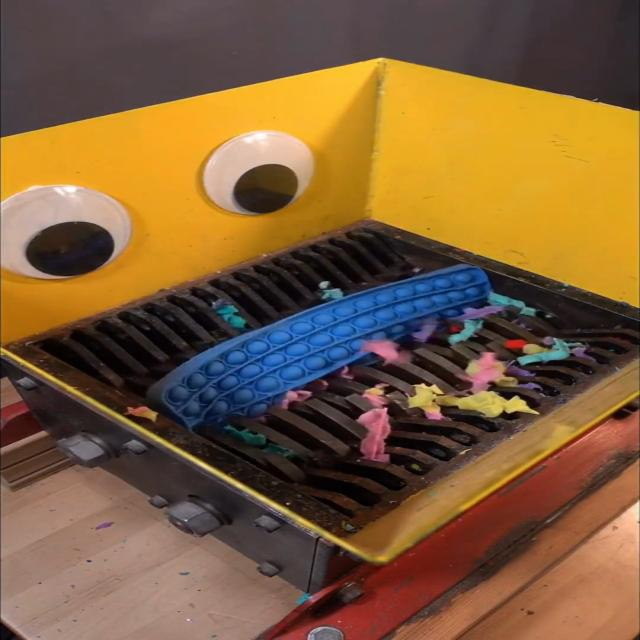Broyeur: (0, 220, 640, 570)
